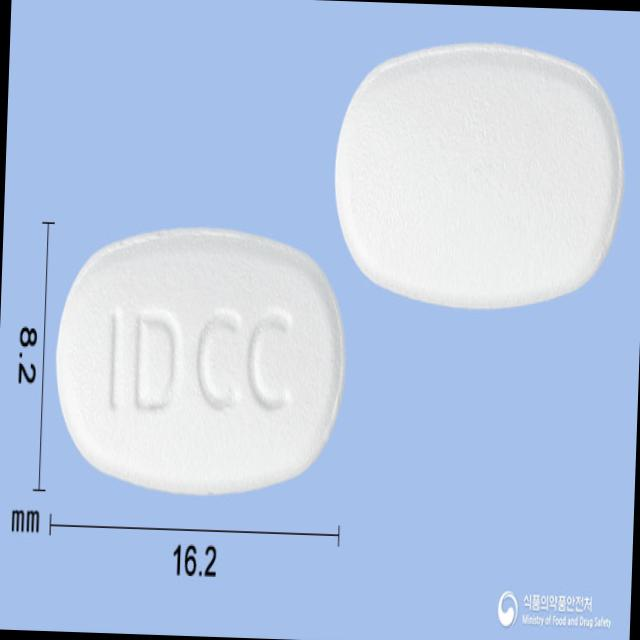Cycin: (51, 217, 352, 501)
